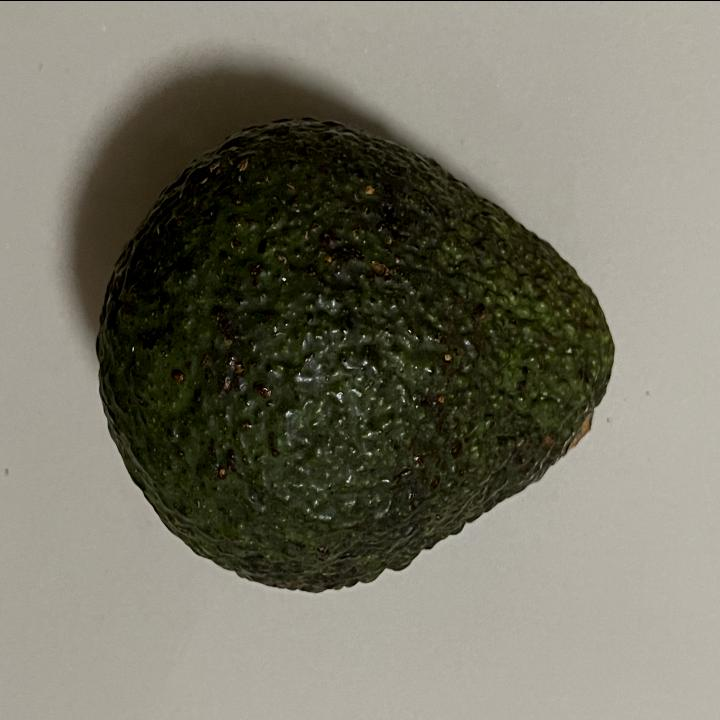Level1: (72, 98, 636, 614)
